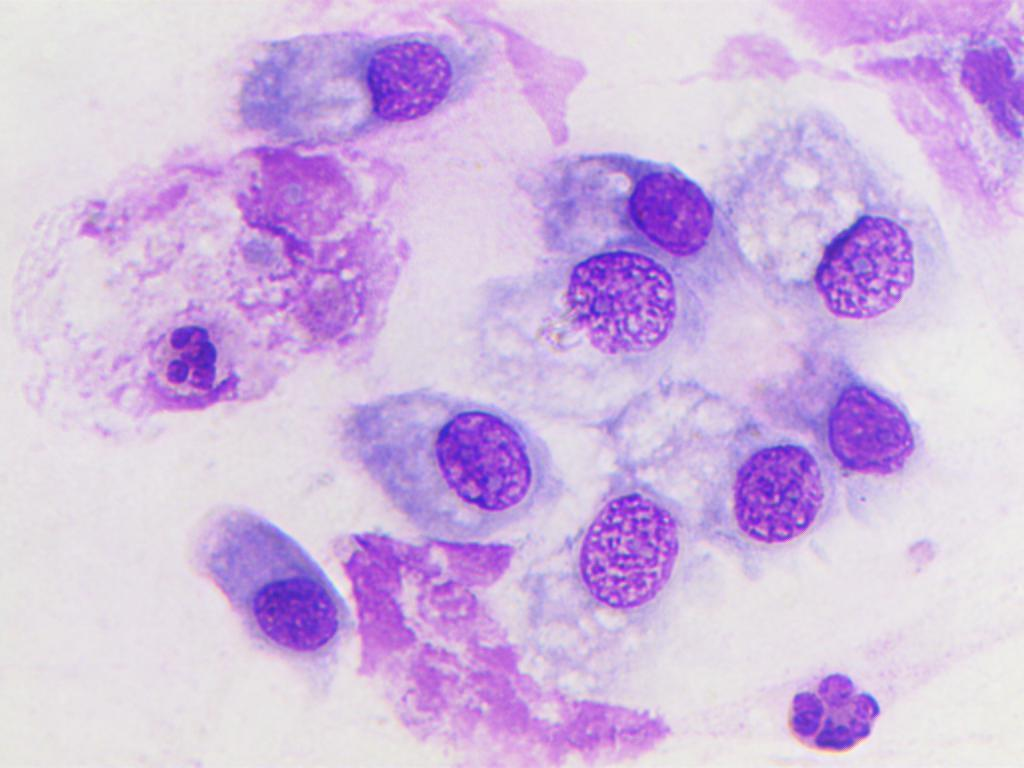epithelial: (764, 343, 927, 480), (726, 433, 833, 559), (574, 488, 687, 607)
goblet_cell: (725, 112, 947, 340), (234, 16, 487, 142), (491, 198, 677, 351), (159, 516, 343, 656), (351, 391, 533, 517), (514, 155, 718, 252)
neutrophil: (780, 666, 887, 752), (139, 318, 223, 395)
